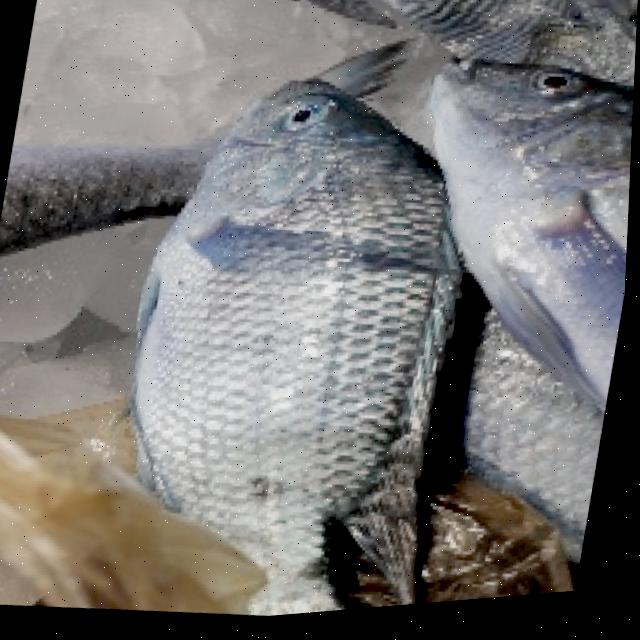Fresh: (97, 16, 507, 632), (389, 15, 638, 379)
